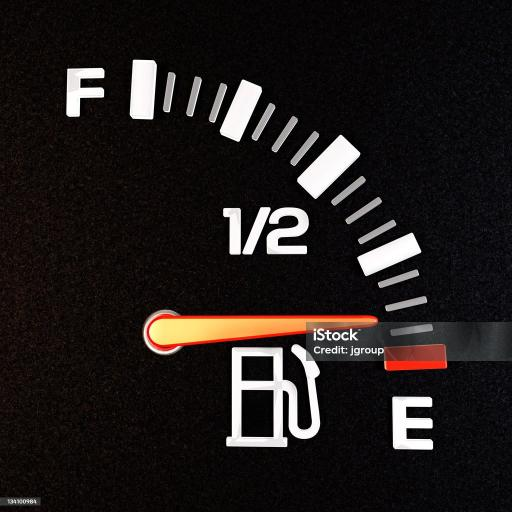empty: (385, 390, 443, 453)
fuel_icon: (222, 345, 322, 451)
full: (60, 66, 109, 118)
guage_area: (55, 52, 451, 460)
needle_center: (141, 304, 189, 358)
needle_tip: (364, 310, 384, 337)
